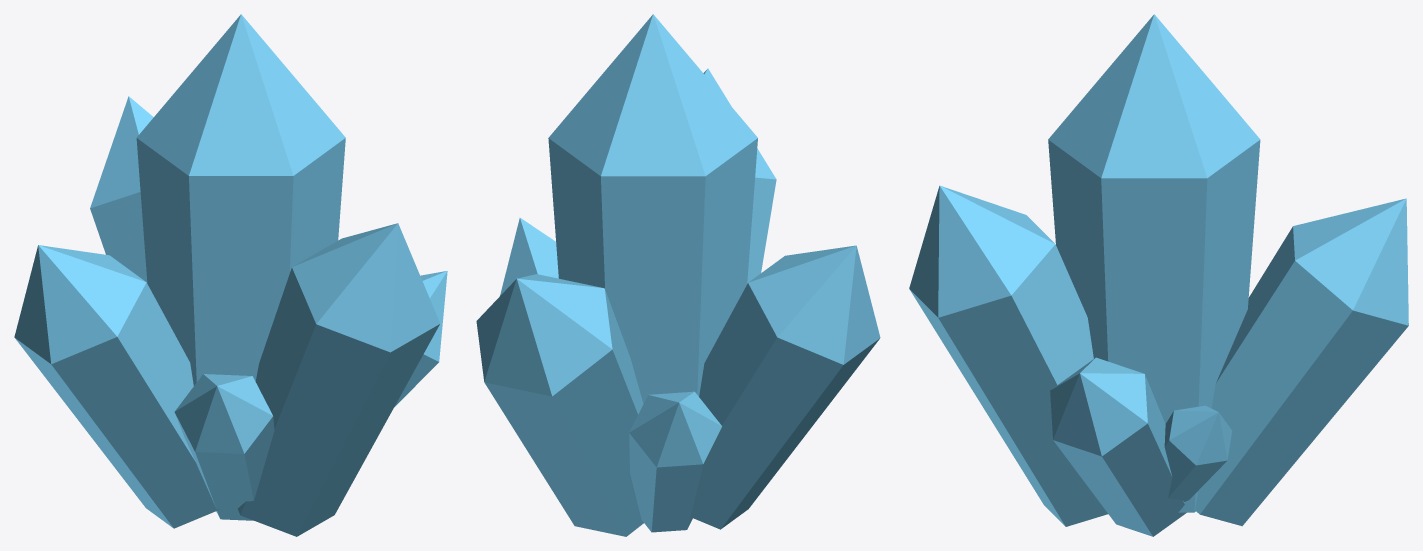
The model's file is obj_Crystal.fbx.
The picture shows the model from 3 angles, left to right: view 1: azimuth 30°, elevation 25°; view 2: azimuth 150°, elevation 25°; view 3: azimuth 270°, elevation 25°; orthographic projection.
Visible parts, largest first — view 1: geo_Crystal; view 2: geo_Crystal; view 3: geo_Crystal.
Boxes of the visible parts, x1=… form: geo_Crystal: x1=14, y1=14, x2=447, y2=536; geo_Crystal: x1=476, y1=14, x2=880, y2=536; geo_Crystal: x1=909, y1=14, x2=1408, y2=536.
Bounding box in the file's own units: 152 × 187 × 171.
